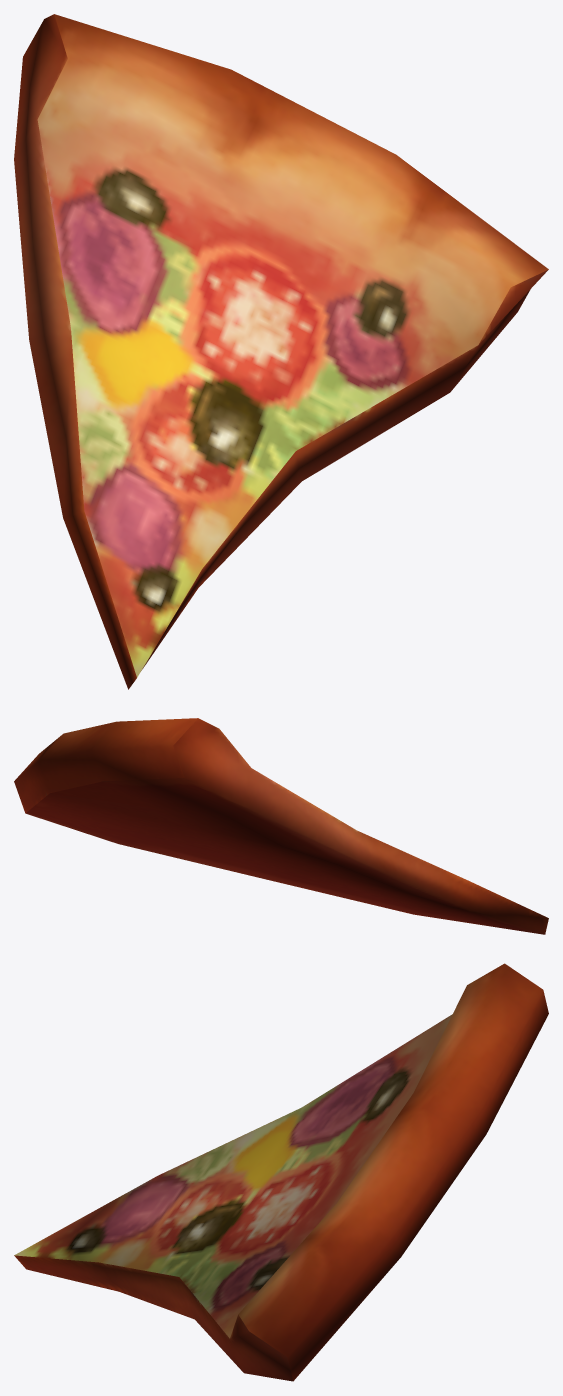
File: recover 1.FBX
3 views of the same model, one above another, from view 1: azimuth 30°, elevation 25°; view 2: azimuth 150°, elevation 25°; view 3: azimuth 270°, elevation 25° (orthographic). The views are drawn at different scales.
Visible parts, largest first — view 1: recover; view 2: recover; view 3: recover.
Part boxes in pixels (x1,y1,x2,y2): recover: (14,14,548,689); recover: (14,718,548,934); recover: (14,963,548,1381).
Bounding box in the file's own units: 149 × 112 × 139.
Materials: 1 (1 with a texture image).
